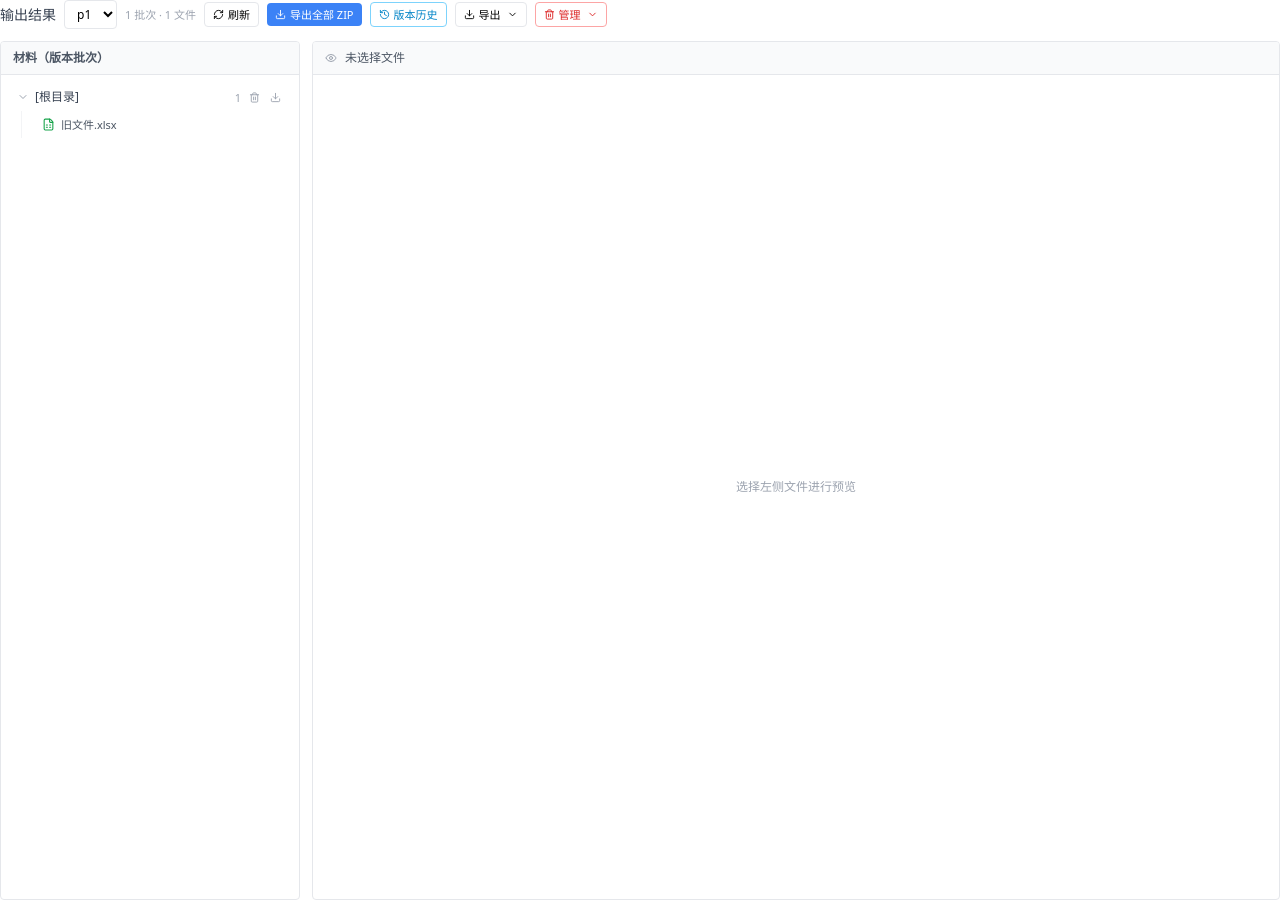
Test: OutputResultsView（M-F1 版本历史 + 评审 PDF） › M-F1 点「版本历史」→ 打开版本历史 Modal（标题可见）
Click the button "版本历史" at (408, 14), box x1=370 y1=2 x2=446 y2=27
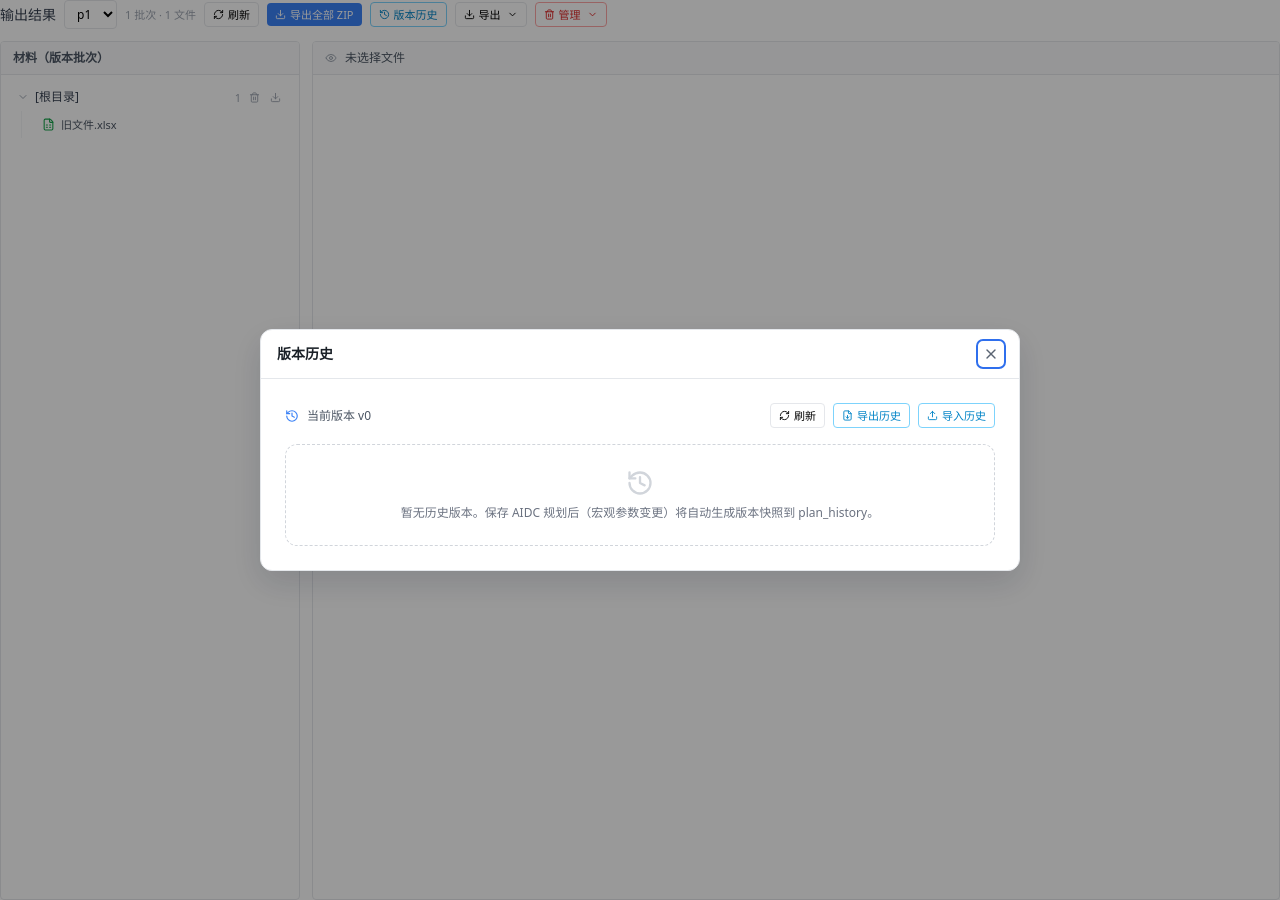
Expected: the text "暂无历史版本。保存 AIDC 规划后（宏观参数变更）将自动生成版本快照到 plan_history。" is shown, x1=401 y1=504 x2=879 y2=521
